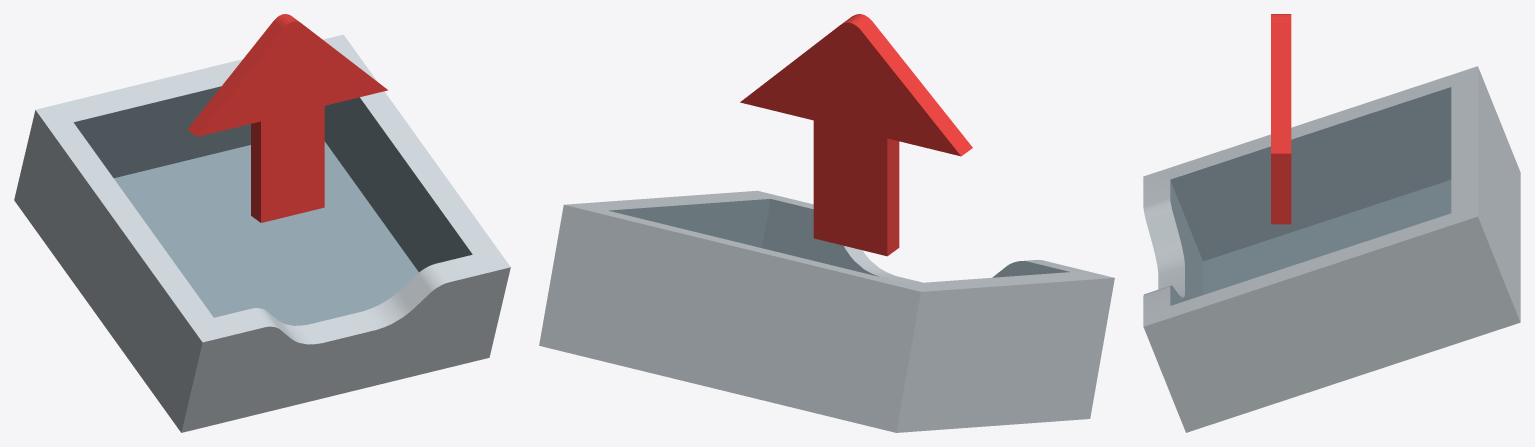
Rendered from outbox_tray.fbx.
3 renders of one model, left to right at view 1: azimuth 30°, elevation 25°; view 2: azimuth 150°, elevation 25°; view 3: azimuth 270°, elevation 25°, orthographic. The views are drawn at different scales.
Parts seen in each view (by area): view 1: Cube.965; view 2: Cube.965; view 3: Cube.965.
Part boxes in pixels (box(x1,y1,x2,y2)): Cube.965: box(14, 14, 510, 432); Cube.965: box(539, 14, 1114, 432); Cube.965: box(1143, 14, 1520, 432).
Bounding box in the file's own units: 200 × 212 × 212.
1 material, 1 textured.
